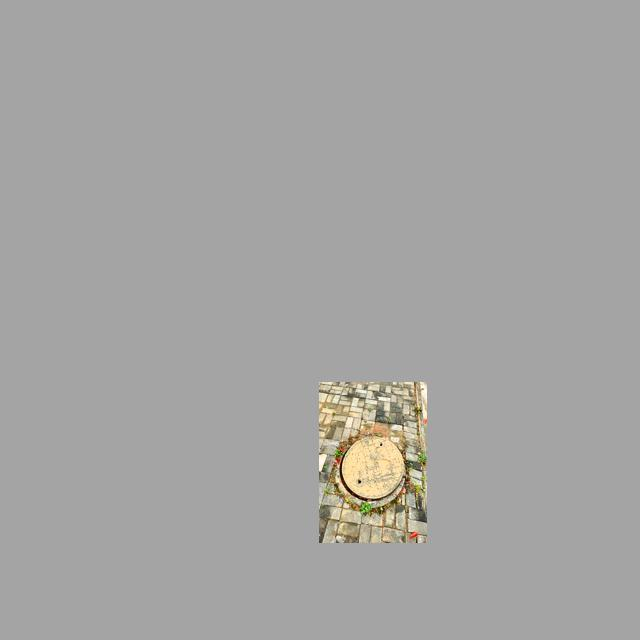uncovered: (335, 435, 406, 508)
